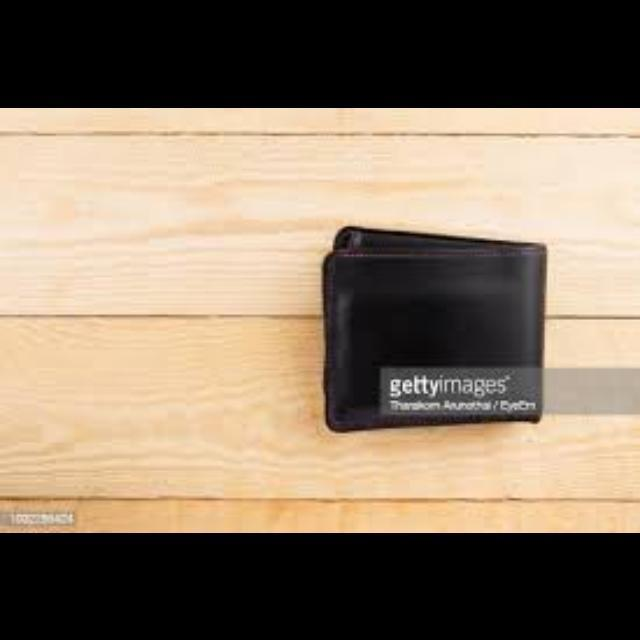wallet: (296, 212, 550, 440)
